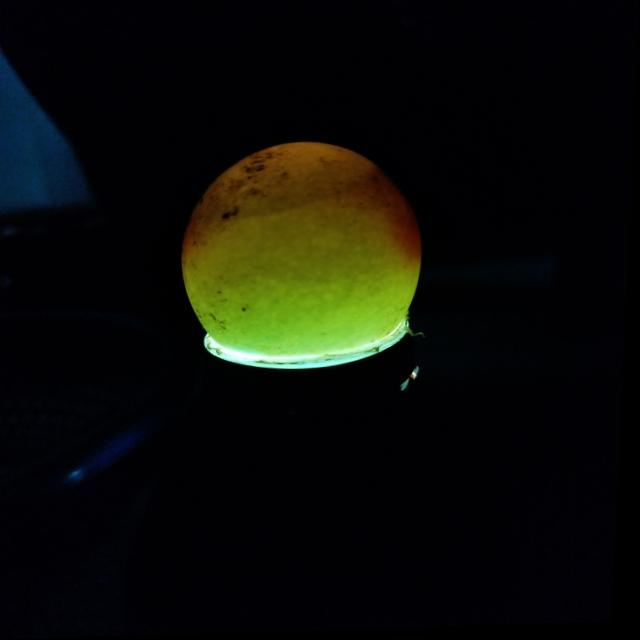Area Infectada: (352, 167, 425, 264)
